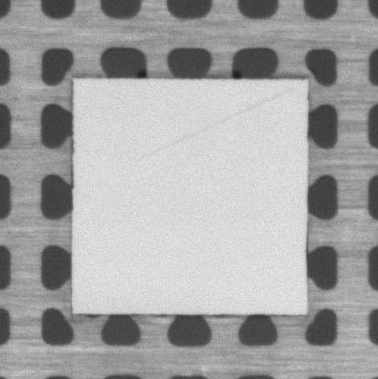DIE_CRACK: (137, 89, 291, 160)
